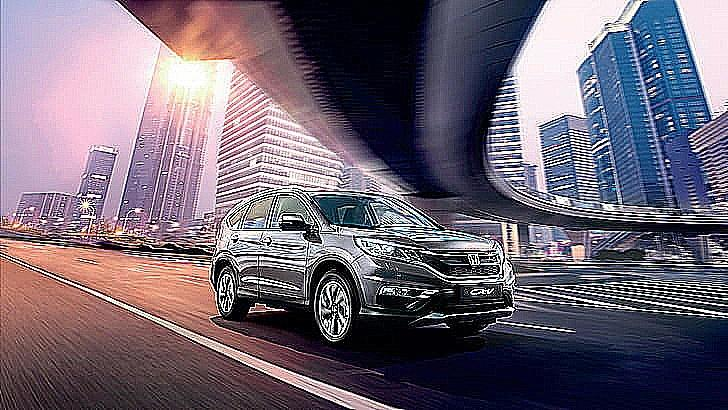Car hood: (345, 251, 518, 322), (339, 225, 500, 252)
Driver-s door - -F-R-: (251, 184, 323, 311)
Fender - -F-R-: (304, 229, 374, 304)
Fender - -R-R-: (207, 199, 245, 288)
Headlight - -L-: (490, 240, 508, 267)
Headlight - -R-: (353, 235, 424, 267)
Passenger-s door - -R-R-: (226, 182, 275, 308)
Side bumper - -R-: (229, 275, 312, 319)
Side mirror - -R-: (275, 211, 317, 240)
